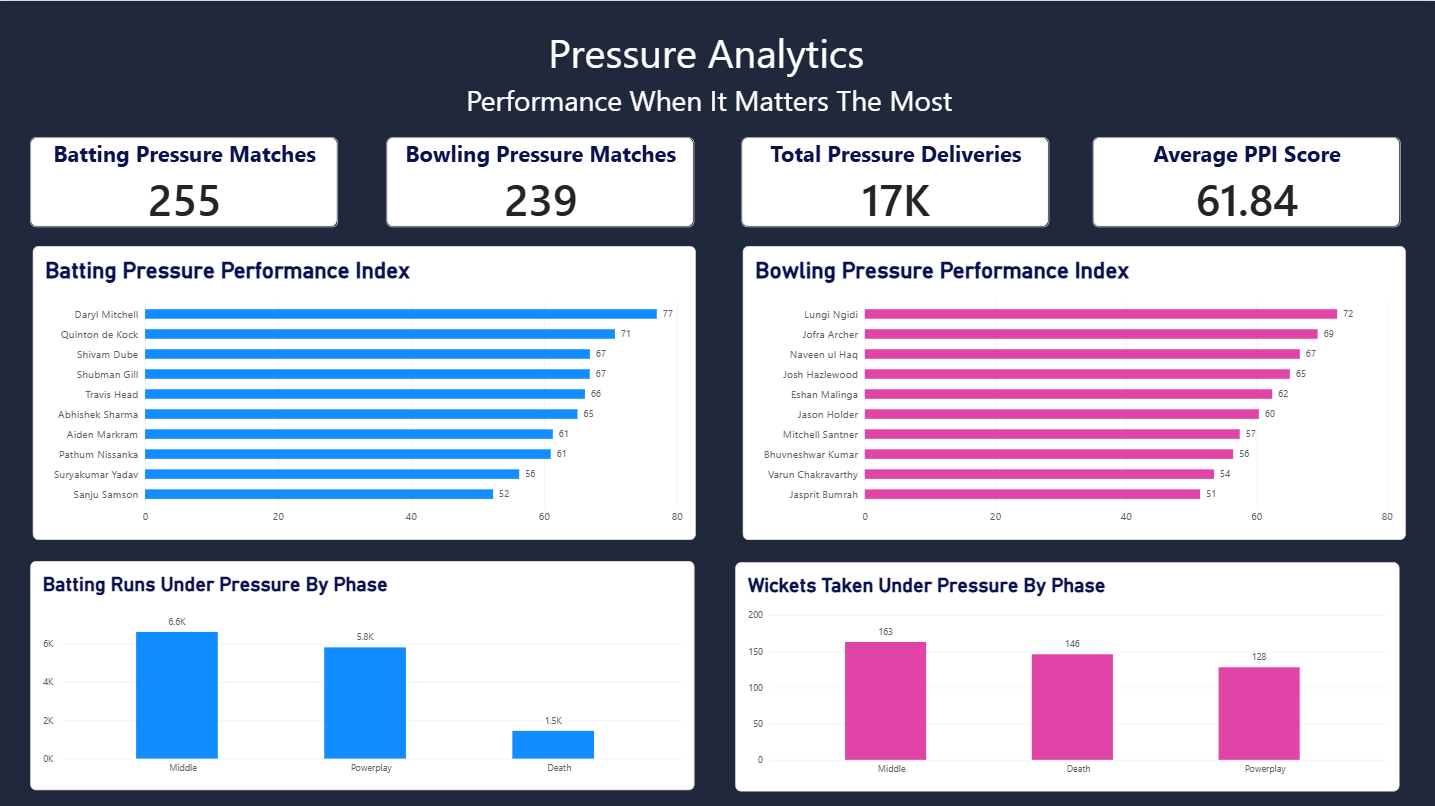

Layout of this report page (visuals, bound fields, positions):
{"tool":"powerbi","page":{"name":"04 - Pressure Analytics","canvas":[1920,1080],"ordinal":3},"visuals":[{"type":"textbox","box":[0,12.2,1920.4,101.2],"z":0},{"type":"textbox","box":[0,83.7,1920.4,83.7],"z":1000},{"type":"cardVisual","fields":{"Data":["Count(T_BI_Pressure_Batting_Matches.match_id)"]},"box":[41.9,181.4,410,120],"z":2000},{"type":"cardVisual","fields":{"Data":["Avg(T_BI_Player_Performance.ppi_score)"]},"box":[1458.1,181.4,410,120],"z":3000},{"type":"cardVisual","fields":{"Data":["Pressure Match Details.Total Pressure Deliveries"]},"box":[990.7,181.4,410,120],"z":4000},{"type":"cardVisual","fields":{"Data":["Count(T_BI_Pressure_Bowling_Matches.match_id)"]},"box":[516.3,181.4,410,120],"z":5000},{"type":"clusteredBarChart","title":"Batting Pressure Performance Index","fields":{"Category":["T_BI_Player_Performance.player_name_ppi"],"Y":["Avg(T_BI_Player_Performance.ppi_score)"]},"box":[44.3,325.8,884.2,392.3],"z":6000},{"type":"clusteredColumnChart","title":"Batting Runs Under Pressure By Phase","fields":{"Category":["T_BI_Pressure_Batting_Matches.phase"],"Y":["Sum(T_BI_Pressure_Batting_Matches.batter_runs)"]},"box":[41.1,746.6,885.8,305.3],"z":8000},{"type":"clusteredBarChart","title":"Bowling Pressure Performance Index","fields":{"Category":["T_BI_Player_Performance.player_name_ppi"],"Y":["Avg(T_BI_Player_Performance.ppi_score)"]},"box":[992.4,326.2,884.2,392.3],"z":9001},{"type":"clusteredColumnChart","title":"Wickets Taken Under Pressure By Phase","fields":{"Category":["T_BI_Pressure_Bowling_Matches.phase"],"Y":["Sum(T_BI_Pressure_Bowling_Matches.wickets)"]},"box":[982.3,748.2,885.8,305.3],"z":9002}]}

Visuals, with their boxes in screenshot pixels (x1, y1, x2, y2), scaled from the page's 1920x1080 canvas onto the 1435x806 screenshot:
textbox: Rect(0, 9, 1434, 85)
textbox: Rect(0, 62, 1434, 125)
cardVisual - Count(T_BI_Pressure_Batting_Matches.match_id): Rect(31, 135, 338, 225)
cardVisual - Avg(T_BI_Player_Performance.ppi_score): Rect(1090, 135, 1396, 225)
cardVisual - Pressure Match Details.Total Pressure Deliveries: Rect(740, 135, 1047, 225)
cardVisual - Count(T_BI_Pressure_Bowling_Matches.match_id): Rect(386, 135, 692, 225)
"Batting Pressure Performance Index" clusteredBarChart: Rect(33, 243, 694, 536)
"Batting Runs Under Pressure By Phase" clusteredColumnChart: Rect(31, 557, 693, 785)
"Bowling Pressure Performance Index" clusteredBarChart: Rect(742, 243, 1403, 536)
"Wickets Taken Under Pressure By Phase" clusteredColumnChart: Rect(734, 558, 1396, 786)
